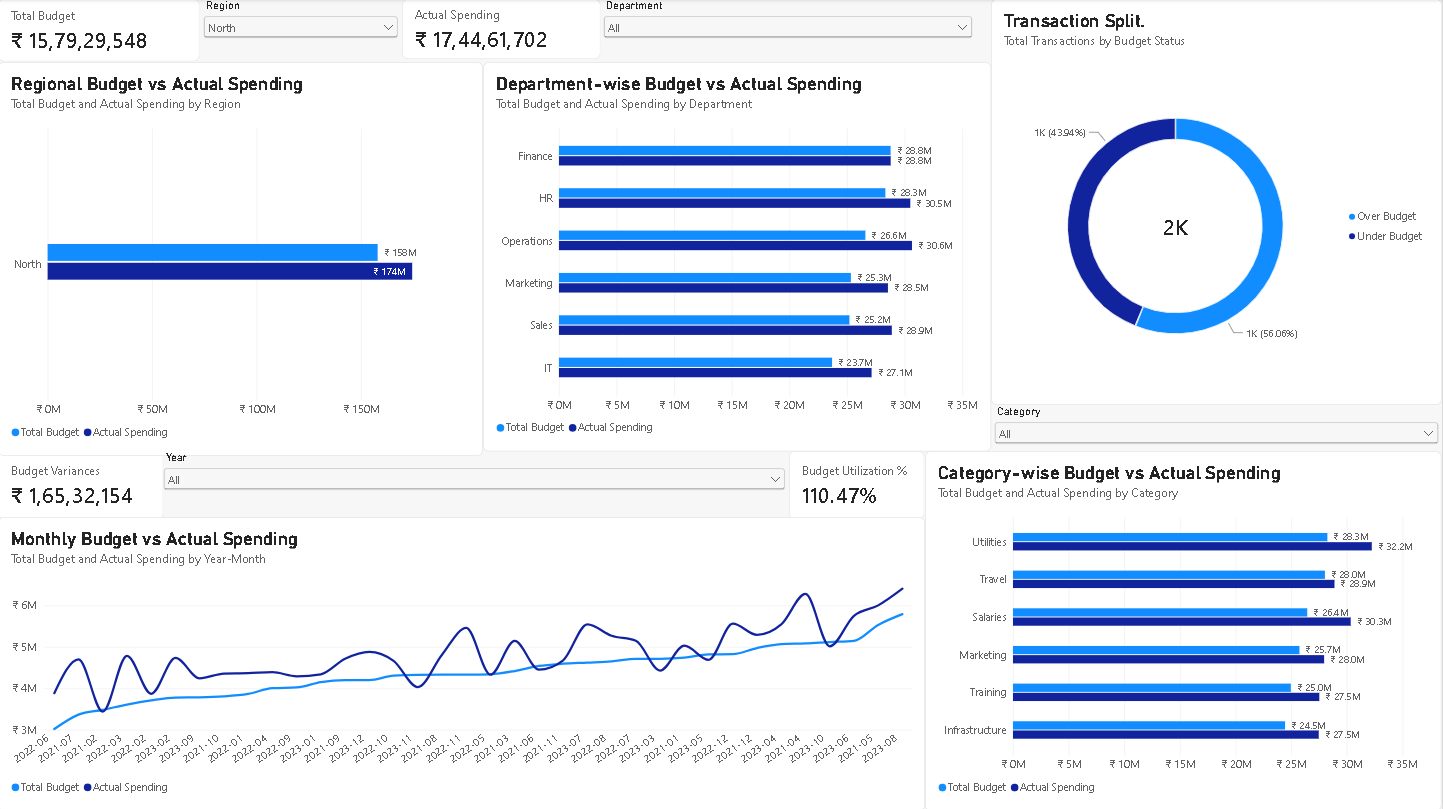

This screenshot's page, from the dashboard's own definition file:
{"tool":"powerbi","page":{"name":"Financial Overview","canvas":[1920,1080],"ordinal":0},"visuals":[{"type":"cardVisual","fields":{"Data":["Project_4_Cleaned_Data.Total Budget"]},"box":[0,0,268.4,83.2],"z":0},{"type":"cardVisual","fields":{"Data":["Project_4_Cleaned_Data.Actual Spending"]},"box":[536.9,0,264.1,80.2],"z":1000},{"type":"cardVisual","fields":{"Data":["Project_4_Cleaned_Data.Budget Variances"]},"box":[0,601.1,220.3,91.9],"z":2000},{"type":"cardVisual","fields":{"Data":["Project_4_Cleaned_Data.Budget Utilization %"]},"box":[1051.9,601.1,180.9,91.9],"z":3000},{"type":"clusteredBarChart","title":"Department-wise Budget vs Actual Spending","fields":{"Category":["Project_4_Cleaned_Data.Department"],"Y":["Project_4_Cleaned_Data.Total Budget","Project_4_Cleaned_Data.Actual Spending"]},"box":[644.9,83.2,675.5,517.9],"z":8000},{"type":"clusteredBarChart","title":"Category-wise Budget vs Actual Spending","fields":{"Category":["Project_4_Cleaned_Data.Category"],"Y":["Project_4_Cleaned_Data.Total Budget","Project_4_Cleaned_Data.Actual Spending"]},"box":[1232.8,601.1,687.2,478.5],"z":9000},{"type":"clusteredBarChart","title":"Regional Budget vs Actual Spending","fields":{"Category":["Project_4_Cleaned_Data.Region"],"Y":["Project_4_Cleaned_Data.Total Budget","Project_4_Cleaned_Data.Actual Spending"]},"box":[0,83.2,644.9,523.8],"z":10000},{"type":"lineChart","title":"Monthly Budget vs Actual Spending","fields":{"Category":["Date Table.Year-Month"],"Y":["Project_4_Cleaned_Data.Total Budget","Project_4_Cleaned_Data.Actual Spending"]},"box":[0,688.6,1232.8,391],"z":11000},{"type":"slicer","fields":{"Values":["Date Table.Year"]},"box":[215.9,601.1,836,91.9],"z":11001},{"type":"slicer","fields":{"Values":["Project_4_Cleaned_Data.Department"]},"box":[801,0,500.4,83.2],"z":11002},{"type":"slicer","fields":{"Values":["Project_4_Cleaned_Data.Category"]},"box":[1320.4,539.8,599.6,61.3],"z":11003},{"type":"slicer","fields":{"Values":["Project_4_Cleaned_Data.Region"]},"box":[268.4,0,268.4,80.2],"z":11004},{"type":"donutChart","title":"Transaction Split.","fields":{"Category":["Project_4_Cleaned_Data.Budget Status"],"Y":["Project_4_Cleaned_Data.Total Transactions"]},"box":[1320.4,0,599.6,539.8],"z":11005}]}

Visuals, with their boxes in screenshot pixels (x1, y1, x2, y2), scaled from the page's 1920x1080 canvas onto the 1443x809 screenshot:
cardVisual - Project_4_Cleaned_Data.Total Budget: crop(0, 0, 202, 62)
cardVisual - Project_4_Cleaned_Data.Actual Spending: crop(404, 0, 602, 60)
cardVisual - Project_4_Cleaned_Data.Budget Variances: crop(0, 450, 166, 519)
cardVisual - Project_4_Cleaned_Data.Budget Utilization %: crop(791, 450, 927, 519)
"Department-wise Budget vs Actual Spending" clusteredBarChart: crop(485, 62, 992, 450)
"Category-wise Budget vs Actual Spending" clusteredBarChart: crop(927, 450, 1442, 808)
"Regional Budget vs Actual Spending" clusteredBarChart: crop(0, 62, 485, 455)
"Monthly Budget vs Actual Spending" lineChart: crop(0, 516, 927, 808)
slicer - Date Table.Year: crop(162, 450, 791, 519)
slicer - Project_4_Cleaned_Data.Department: crop(602, 0, 978, 62)
slicer - Project_4_Cleaned_Data.Category: crop(992, 404, 1442, 450)
slicer - Project_4_Cleaned_Data.Region: crop(202, 0, 403, 60)
"Transaction Split." donutChart: crop(992, 0, 1442, 404)
